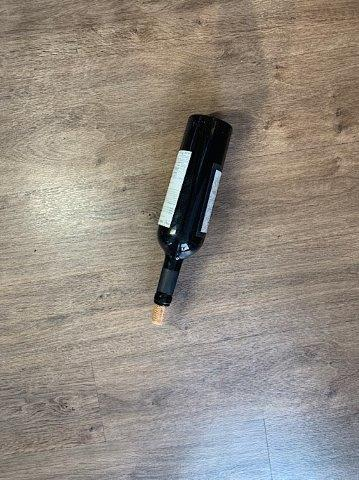botolkaca: (153, 116, 231, 325)
